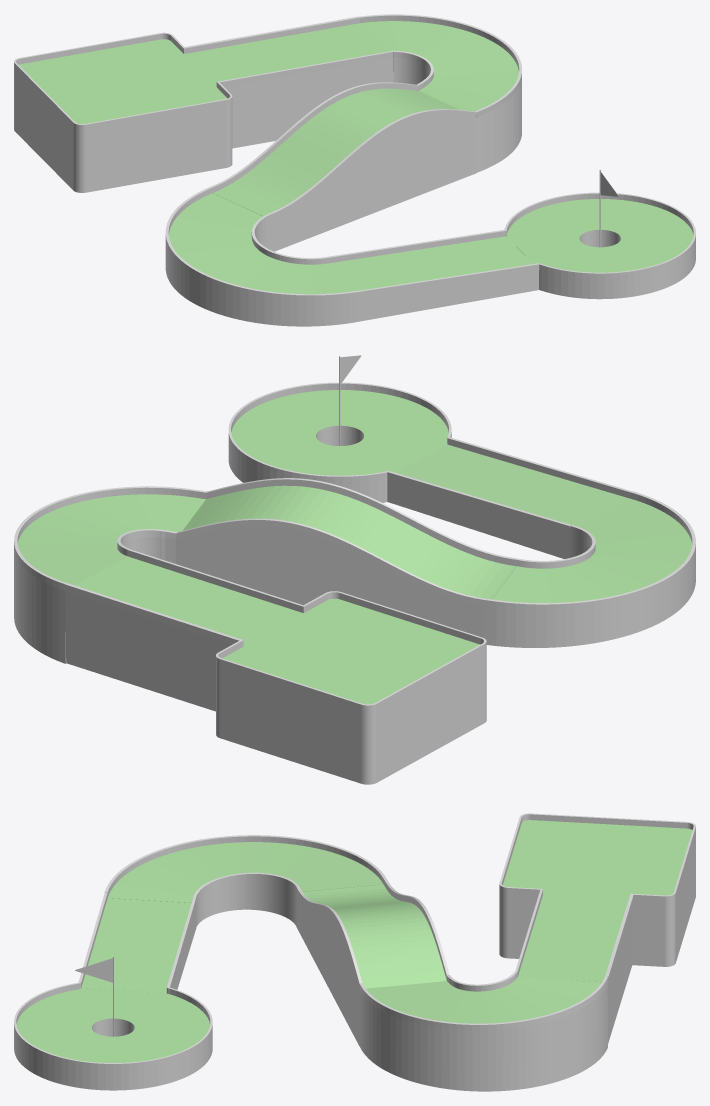
The model's file is GolfStage03.glb.
The picture shows the model from 3 angles, top to bottom: view 1: azimuth 30°, elevation 25°; view 2: azimuth 150°, elevation 25°; view 3: azimuth 270°, elevation 25°; orthographic projection. The views are drawn at different scales.
Visible parts, largest first — view 1: Cube.002, ZFT11, Plane.001, Cylinder, Cube, Plane, Cube.003; view 2: Cube.002, ZFT11, Cube, Plane.001, Cylinder, Plane, Cube.003; view 3: Plane, Cube.002, Cylinder, Plane.001, ZFT11, Cube, Cube.003, Cube.001.
Boxes of the visible parts, x1,y1,x2,y2 form: Cube.002: (14,32,232,192); ZFT11: (210,82,476,251); Plane.001: (165,187,356,326); Cylinder: (504,192,695,299); Cube: (185,16,393,148); Plane: (359,14,521,172); Cube.003: (323,229,539,321); Cube.002: (216,591,486,784); ZFT11: (176,478,517,640); Cube: (65,549,302,711); Plane.001: (486,491,695,647); Cylinder: (228,382,451,502); Plane: (14,486,207,663); Cube.003: (387,437,632,558); Plane: (359,971,608,1091); Cube.002: (499,813,695,966); Cylinder: (14,982,212,1090); Plane.001: (104,835,385,926); ZFT11: (296,878,449,1045); Cube: (515,889,633,1043); Cube.003: (78,892,196,993); Cube.001: (75,958,112,982).
Size of the model in its own units: 4.13 by 0.8047 by 5.39.
